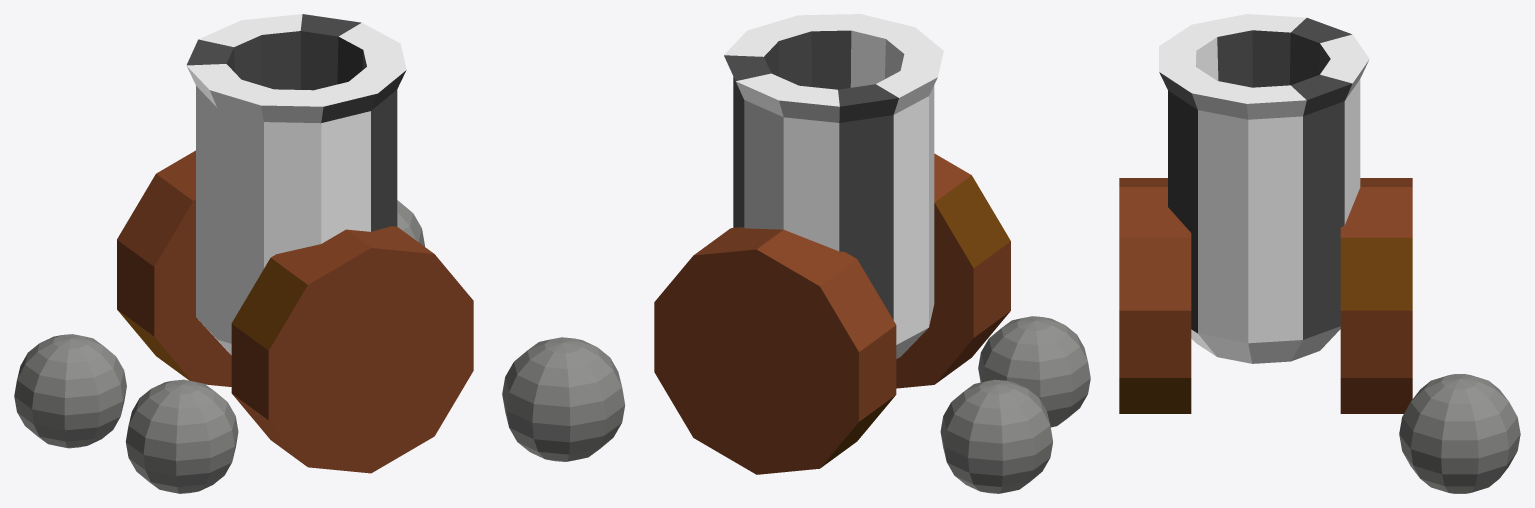
Rendered from cannon.glb.
3 renders of one model, left to right at view 1: azimuth 30°, elevation 25°; view 2: azimuth 150°, elevation 25°; view 3: azimuth 270°, elevation 25°, orthographic. The views are drawn at different scales.
Parts seen in each view (by area): view 1: Cylinder; view 2: Cylinder; view 3: Cylinder.
Boxes of the visible parts, x1,y1,x2,y2 form: Cylinder: (14, 14, 473, 493); Cylinder: (502, 14, 1090, 493); Cylinder: (1119, 14, 1520, 493).
Bounding box in the file's own units: 12.34 × 9.26 × 9.61.
